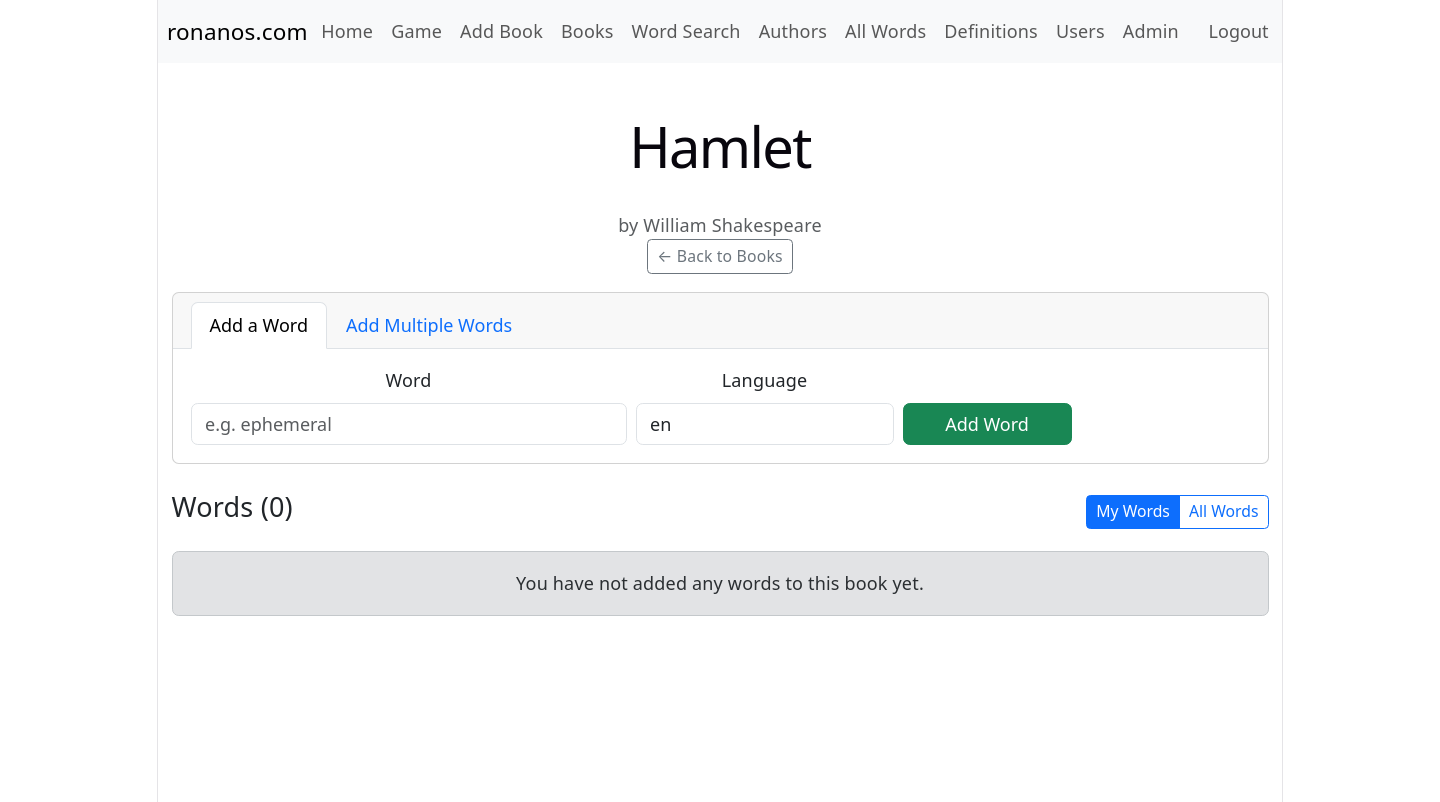
Test: BookDetail › shows bulk add tab and switches to it
Check: the heading "Hamlet" is shown, box [629,108,811,184]
Check: the button "Add a Word" is shown, box [190,302,327,349]
Click the button "Add Multiple Words" at (429, 325), box [327,302,531,349]
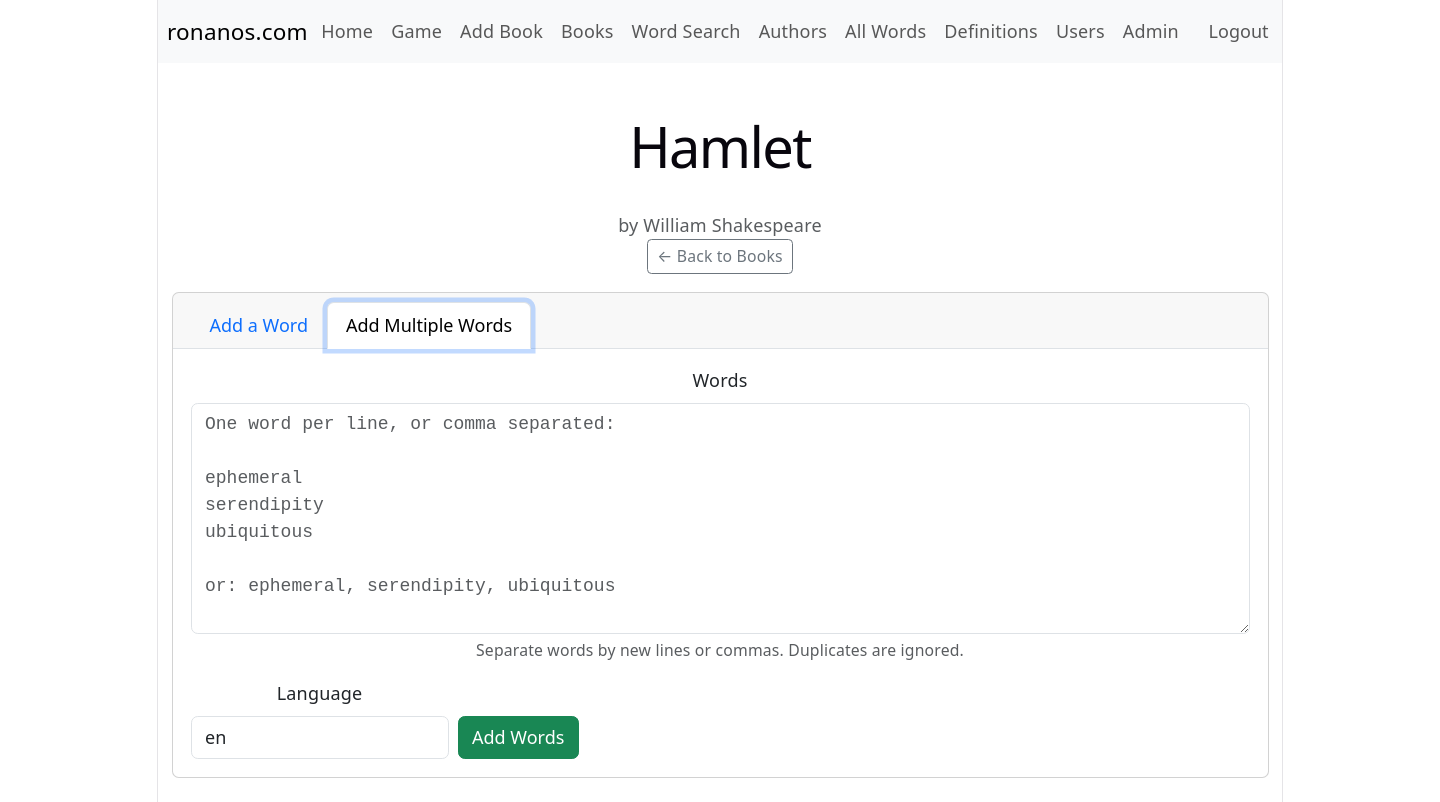
Check: the text box with placeholder "One word per line" is shown, box [190,403,1250,634]
